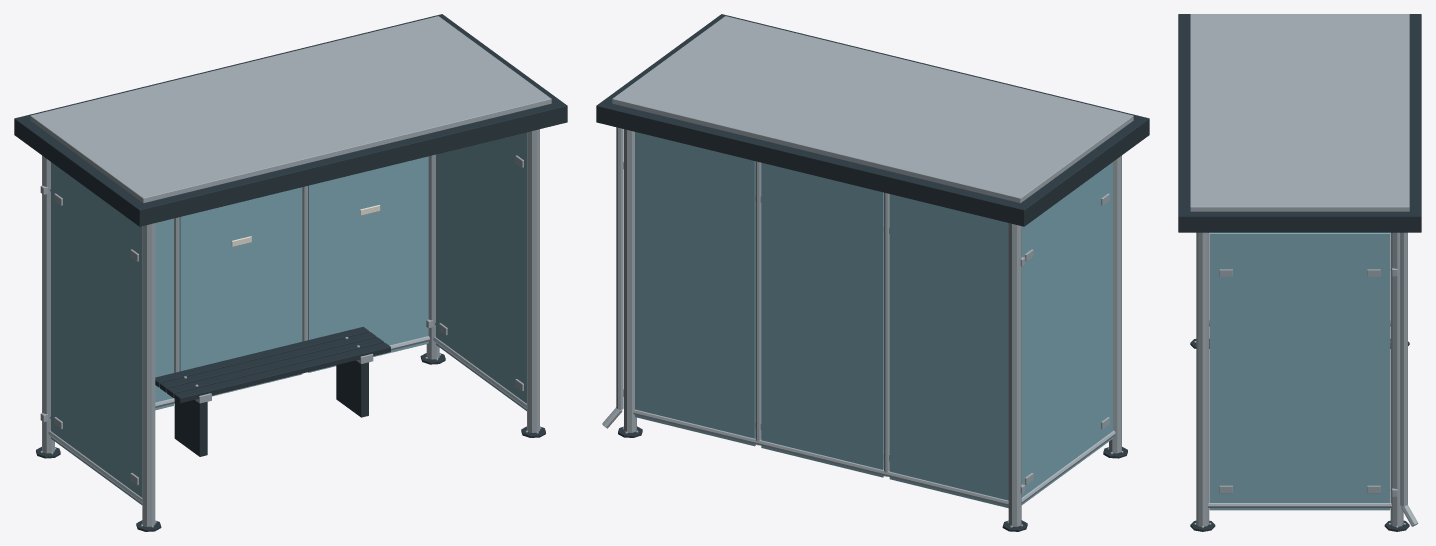
File: b01_glass_flat_roof_bus_shelter.glb
3 renders of one model, left to right at view 1: azimuth 30°, elevation 25°; view 2: azimuth 150°, elevation 25°; view 3: azimuth 270°, elevation 25°, orthographic. The views are drawn at different scales.
Visible parts, largest first — view 1: b01_glass_flat_roof_bus_shelter; view 2: b01_glass_flat_roof_bus_shelter; view 3: b01_glass_flat_roof_bus_shelter.
Part boxes in pixels (x1,y1,x2,y2): b01_glass_flat_roof_bus_shelter: (14, 14, 567, 531); b01_glass_flat_roof_bus_shelter: (596, 14, 1149, 531); b01_glass_flat_roof_bus_shelter: (1178, 14, 1421, 531).
Size of the model in its own units: 3.45 by 2.59 by 1.75.
